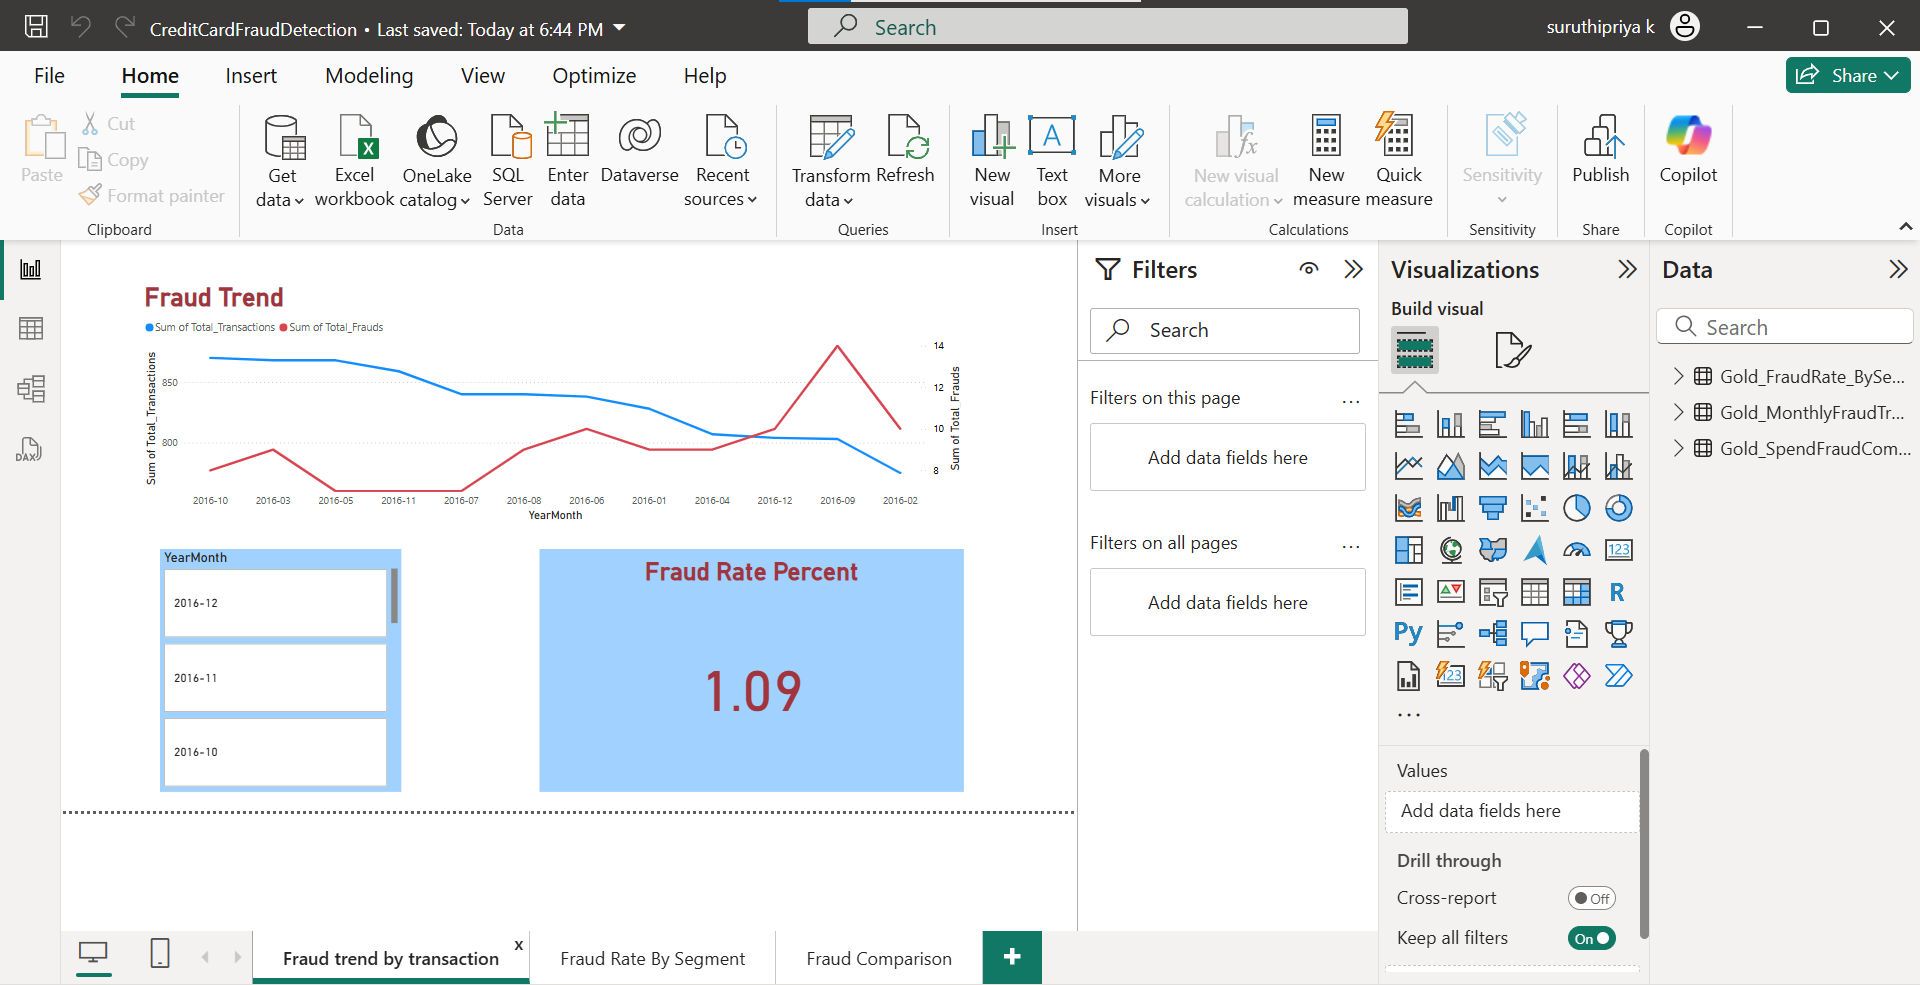

The page's visual inventory and layout, read from the dashboard file:
{"tool":"powerbi","page":{"name":"Fraud trend by transaction","canvas":[1280,720],"ordinal":0},"visuals":[{"type":"lineChart","title":"Fraud Trend","fields":{"Category":["Gold_MonthlyFraudTrend.YearMonth"],"Y":["Sum(Gold_MonthlyFraudTrend.Total_Transactions)"],"Y2":["Sum(Gold_MonthlyFraudTrend.Total_Frauds)"]},"box":[100.2,52.9,1037.5,306.1],"z":0},{"type":"advancedSlicerVisual","fields":{"Values":["Gold_MonthlyFraudTrend.YearMonth"]},"box":[124.7,389.3,304.3,306.1],"z":1},{"type":"card","title":"Fraud Rate Percent","fields":{"Values":["Avg(Gold_SpendFraudComparison.Fraud_Rate_Percent)"]},"box":[602.8,389.3,534.8,306],"z":2}]}

Visuals, with their boxes on the page's 1280x720 design canvas (x1, y1, x2, y2). These are canvas units, not pixel positions in the 1920x985 screenshot, which may show the page scaled, cropped or inside an application window:
"Fraud Trend" lineChart: bbox=(100, 53, 1138, 359)
advancedSlicerVisual - Gold_MonthlyFraudTrend.YearMonth: bbox=(125, 389, 429, 695)
"Fraud Rate Percent" card: bbox=(603, 389, 1138, 695)
